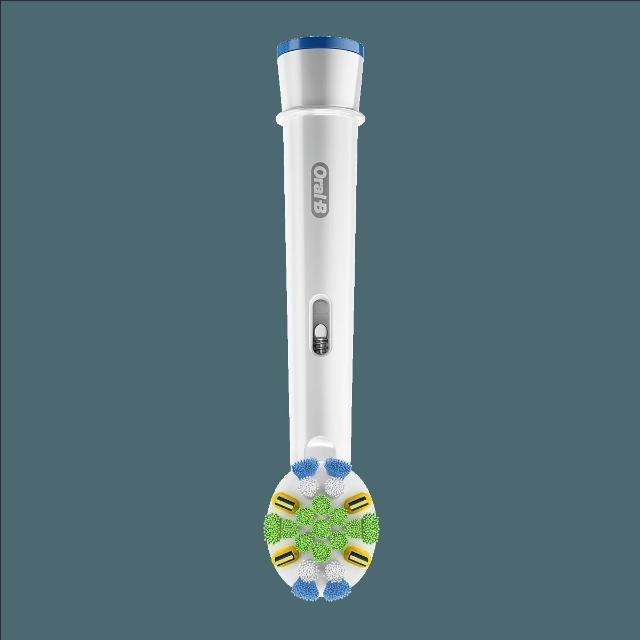toothbrush: (239, 6, 411, 640)
